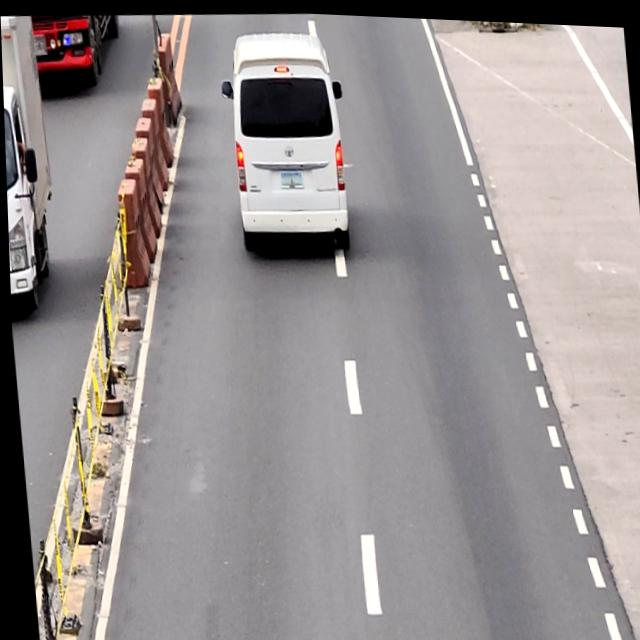Car: (216, 28, 354, 260)
License-Plate: (277, 168, 303, 186)
